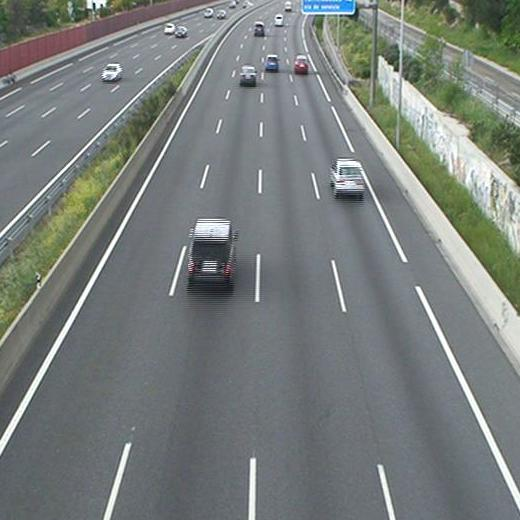car: (184, 217, 237, 295), (329, 159, 366, 199), (238, 65, 258, 86), (293, 54, 310, 74), (265, 54, 280, 71)
